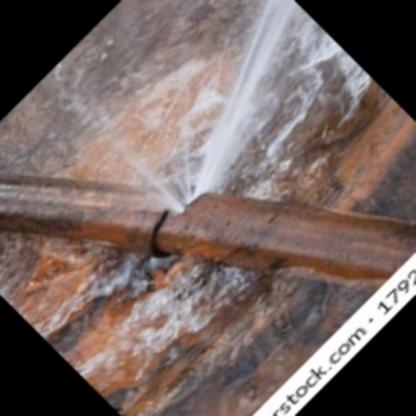burst: (158, 167, 232, 225)
